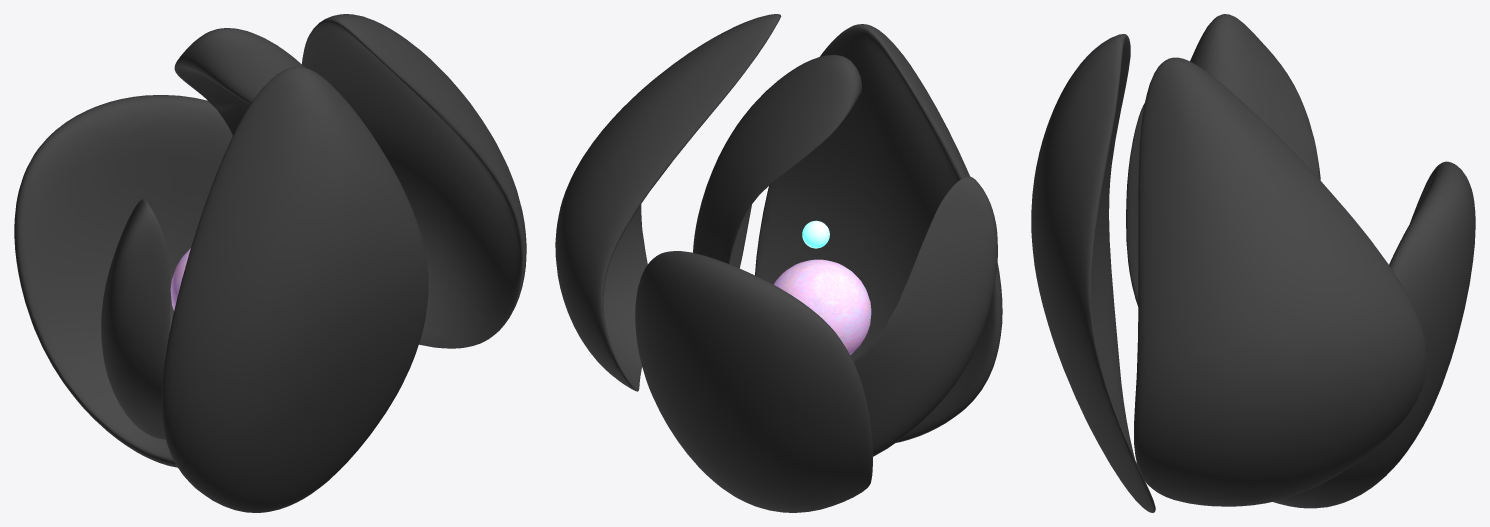
The model's file is GlowingLiquidMetalFlower.glb.
3 views of the same model, side by side, from view 1: azimuth 30°, elevation 25°; view 2: azimuth 150°, elevation 25°; view 3: azimuth 270°, elevation 25° (orthographic). The views are drawn at different scales.
Parts seen in each view (by area): view 1: middlePetals, outerPetals, innerPetals; view 2: middlePetals, innerPetals, outerPetals, opal, glowingSphere; view 3: outerPetals, middlePetals, innerPetals.
Boxes of the visible parts, box(x1,y1,x2,y2) form: middlePetals: box(14, 67, 428, 512); outerPetals: box(302, 14, 526, 348); innerPetals: box(101, 28, 304, 439); middlePetals: box(635, 24, 1002, 512); innerPetals: box(693, 55, 997, 456); outerPetals: box(555, 14, 781, 391); opal: box(773, 259, 871, 354); glowingSphere: box(802, 220, 829, 248); outerPetals: box(1134, 57, 1426, 506); middlePetals: box(1031, 34, 1475, 512); innerPetals: box(1126, 14, 1320, 306).
Size of the model in its own units: 7.13 by 7.44 by 6.26.
3 materials, 1 textured.
